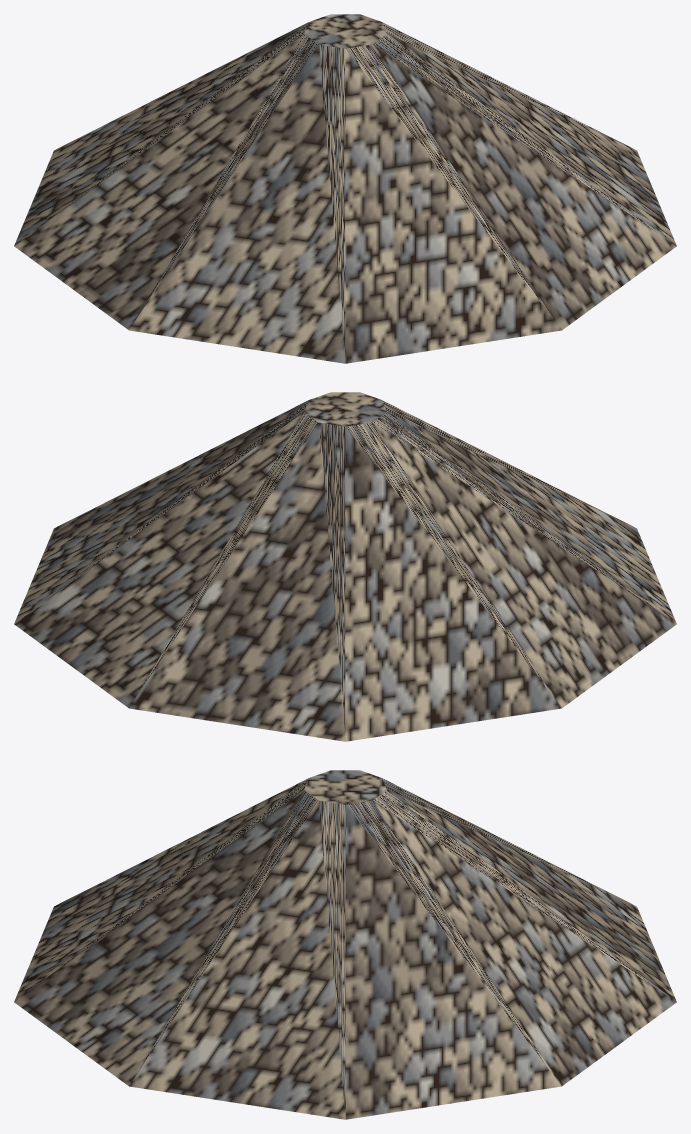
The model's file is VG_GravelPile.obj.
3 views of the same model, one above another, from view 1: azimuth 30°, elevation 25°; view 2: azimuth 150°, elevation 25°; view 3: azimuth 270°, elevation 25° (orthographic).
Parts seen in each view (by area): view 1: VG_GravelPile; view 2: VG_GravelPile; view 3: VG_GravelPile.
Part boxes in pixels (bbox=[...]): VG_GravelPile: bbox=[14, 14, 676, 363]; VG_GravelPile: bbox=[14, 392, 676, 741]; VG_GravelPile: bbox=[14, 770, 676, 1119].
Size of the model in its own units: 2.33 by 0.75 by 2.36.
Materials: 1 (1 with a texture image).
